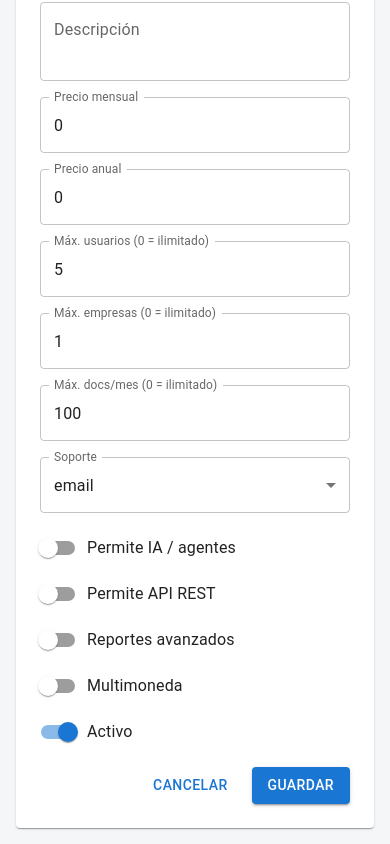
Test case: PlanFormPage (react-hook-form + zod) › exige el nombre
The image size is (390, 844).
(page scrolled)
Click the button "Guardar": {"x": 301, "y": 785} left=252, top=767, right=350, bottom=804
(page scrolled)
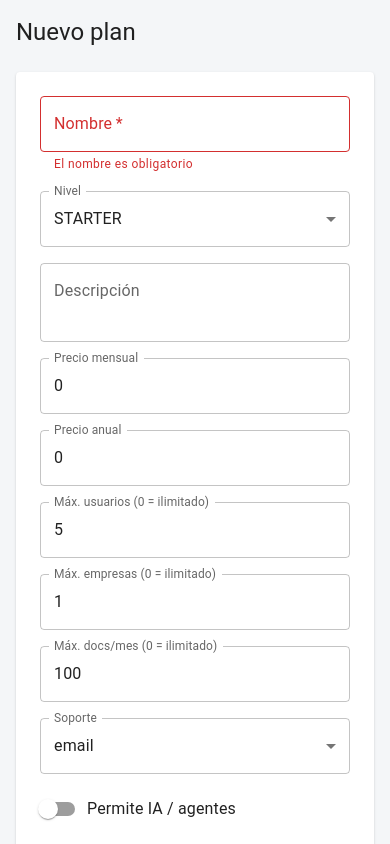
Now the text "El nombre es obligatorio" is shown, box left=54, top=157, right=193, bottom=171
